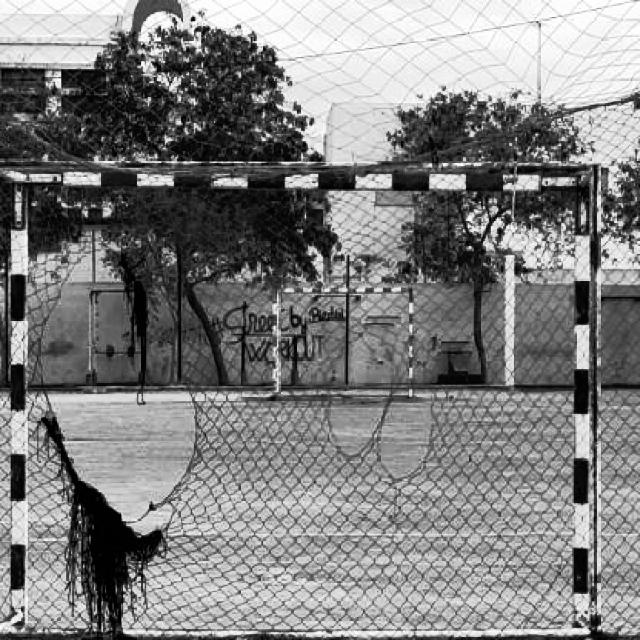anomaly-fence: (17, 205, 225, 620), (309, 256, 475, 535)
